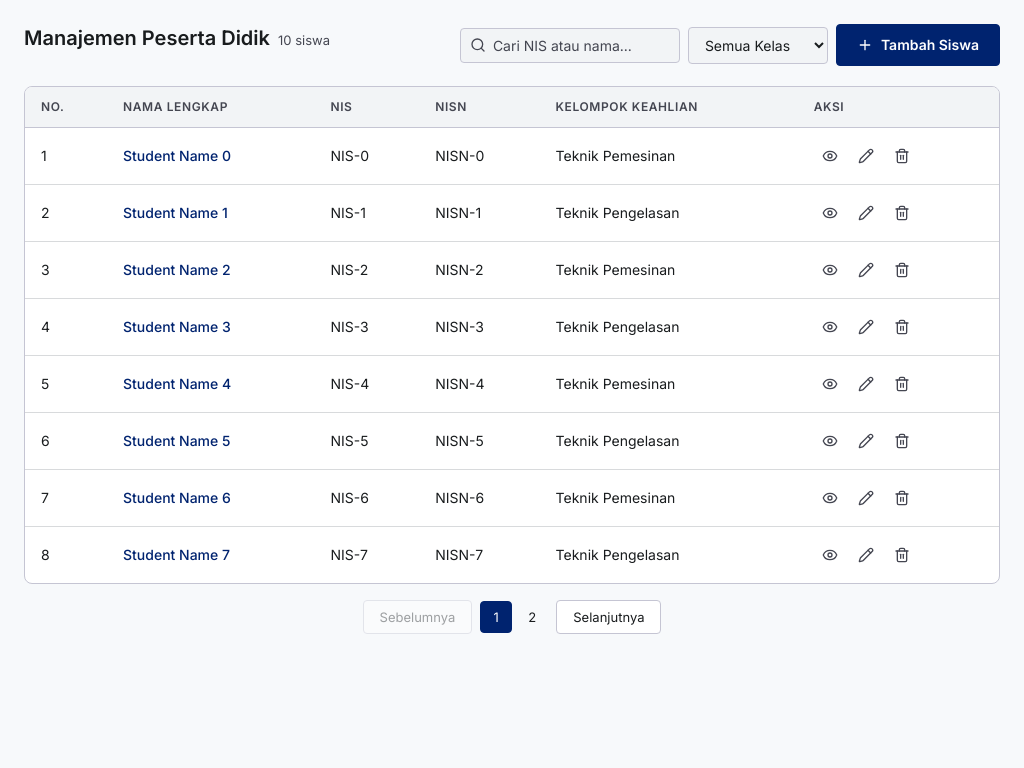
Test: Student List Page › handles student deletion flow (confirm and cancel)
Expected: the link "Student Name 0" is shown, x1=123 y1=147 x2=231 y2=164
// Find first delete button (using aria-label Hapus Student Name 0)
Step 1. Click the button named "Hapus Student Name 0" → (902, 156), box x1=886 y1=140 x2=918 y2=172
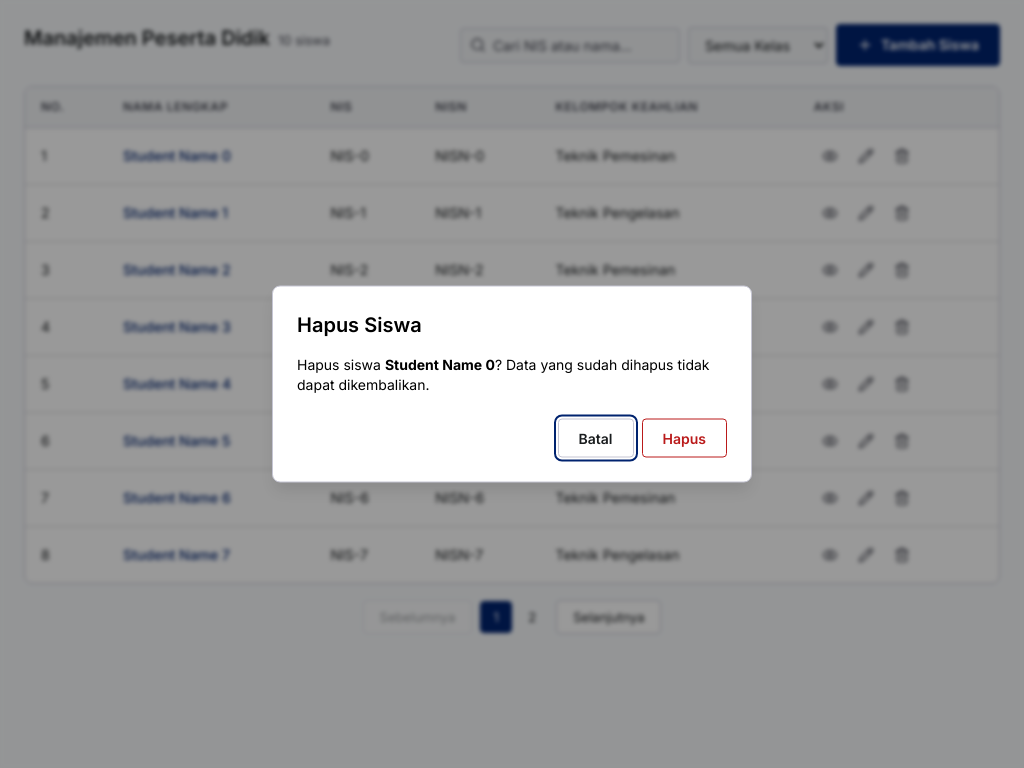
Expected: the heading "Hapus Siswa" is shown, x1=297 y1=312 x2=422 y2=336
Expected: the text "Student Name 0" is shown, x1=385 y1=356 x2=495 y2=372
// Cancel deletion
Step 2. Click the button "Batal" → (596, 438), box x1=558 y1=418 x2=634 y2=458
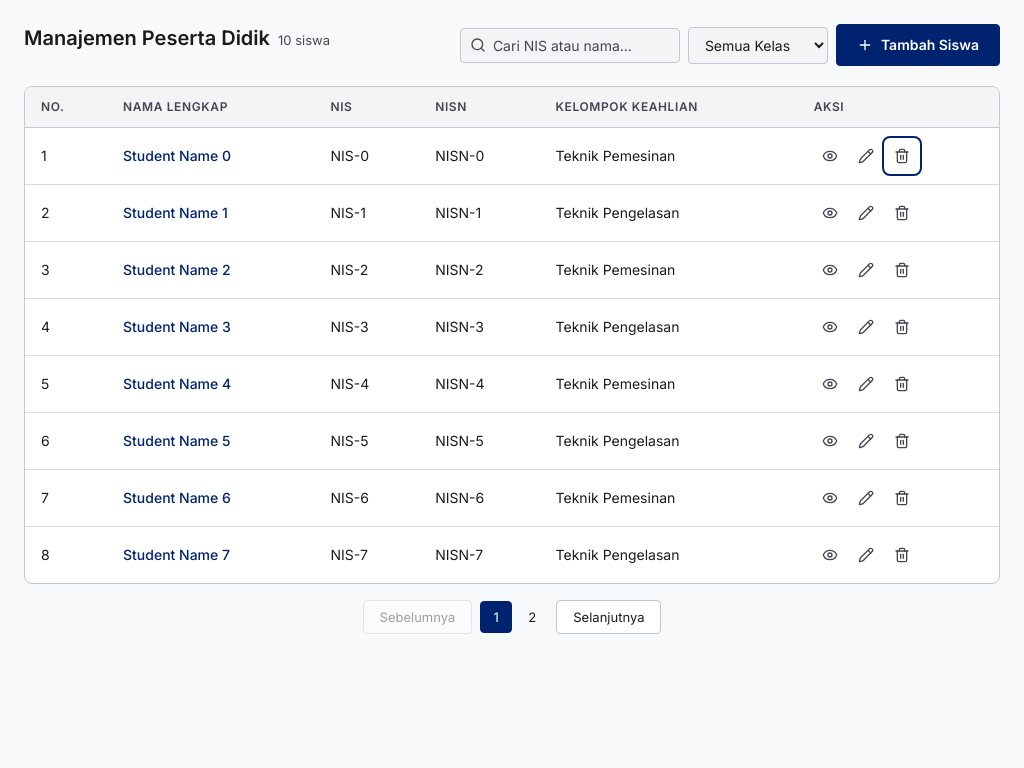
// Open again
Step 3. Click the button named "Hapus Student Name 0" → (902, 156), box x1=886 y1=140 x2=918 y2=172
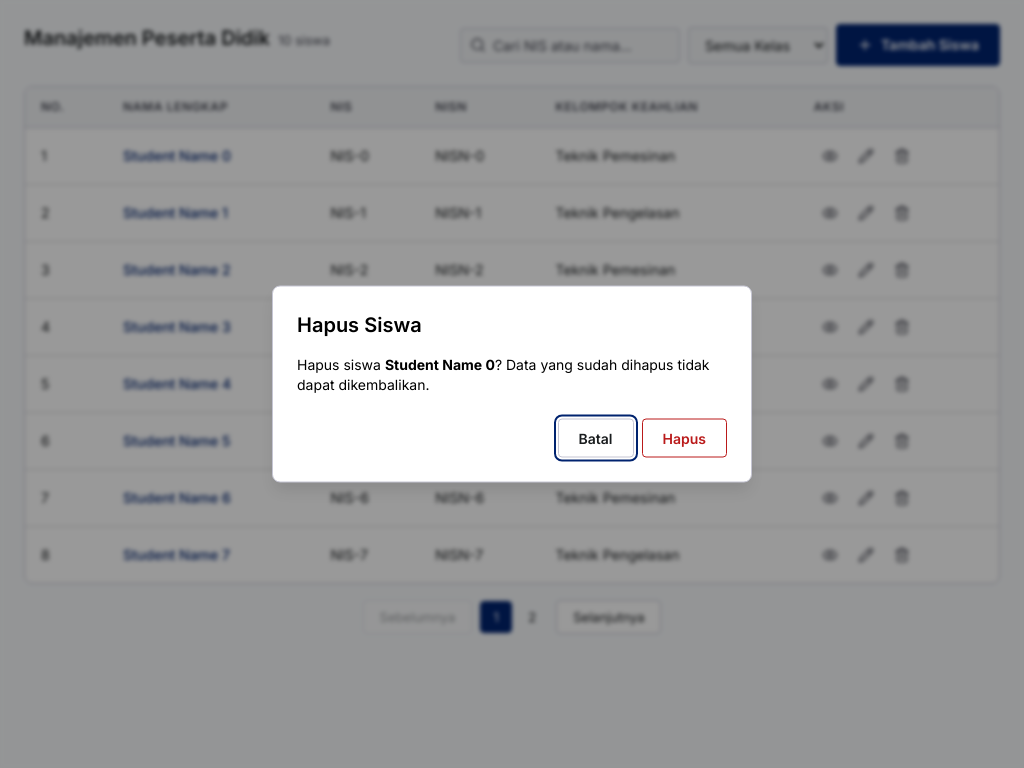
Step 4. Click the button "Hapus" → (684, 438), box x1=642 y1=418 x2=727 y2=458
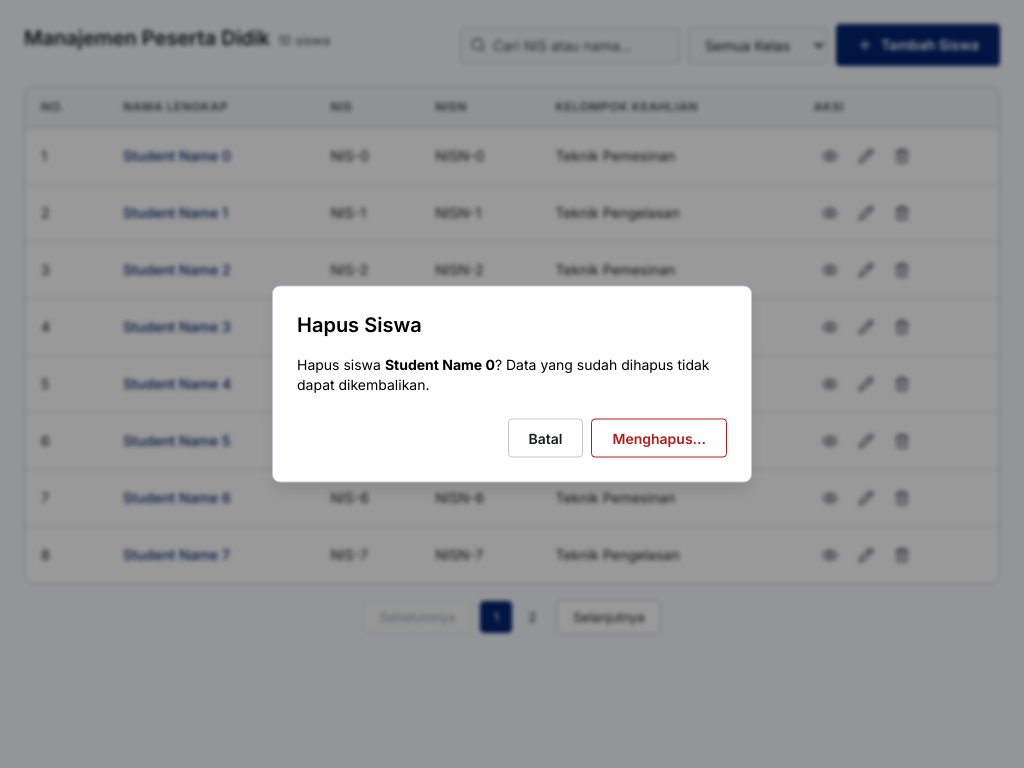
Expected: the button "Menghapus..." is shown, x1=592 y1=418 x2=727 y2=458
Expected: the button "Menghapus..." is disabled, x1=592 y1=418 x2=727 y2=458
// Try clicking cancel while deleting to trigger the early return in cancelDelete
Step 5. Click the button "Batal" → (546, 438), box x1=508 y1=418 x2=584 y2=458
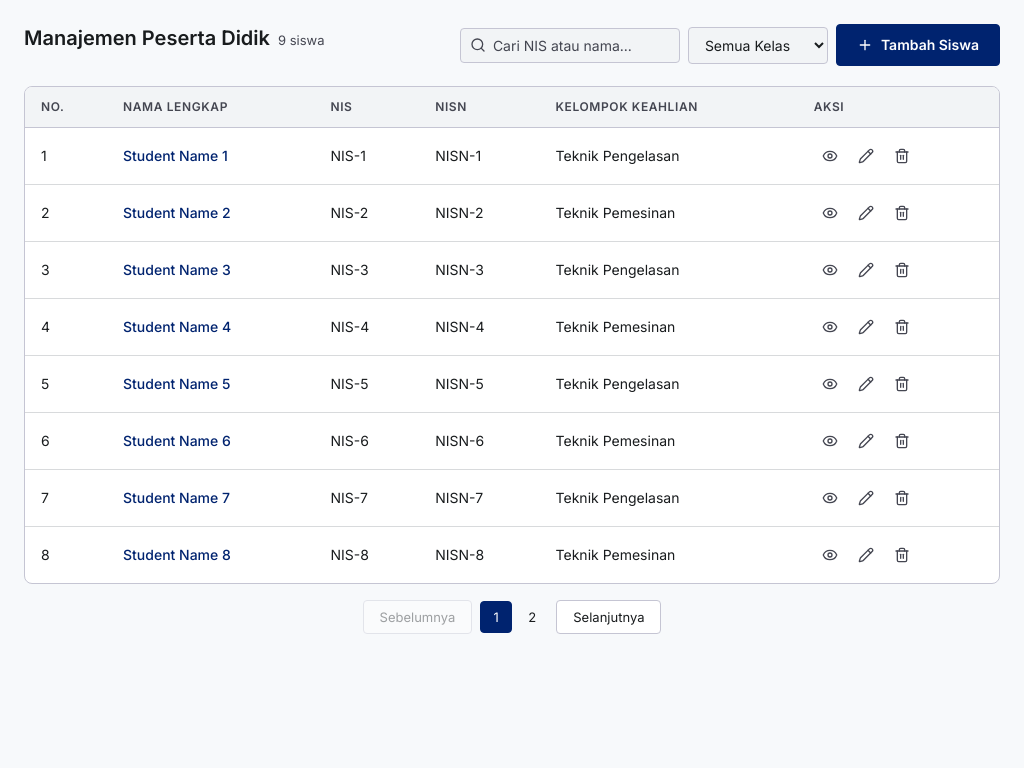
Expected: the link "Student Name 0" is gone
Expected: the text "9 siswa" is shown, x1=278 y1=31 x2=324 y2=49
